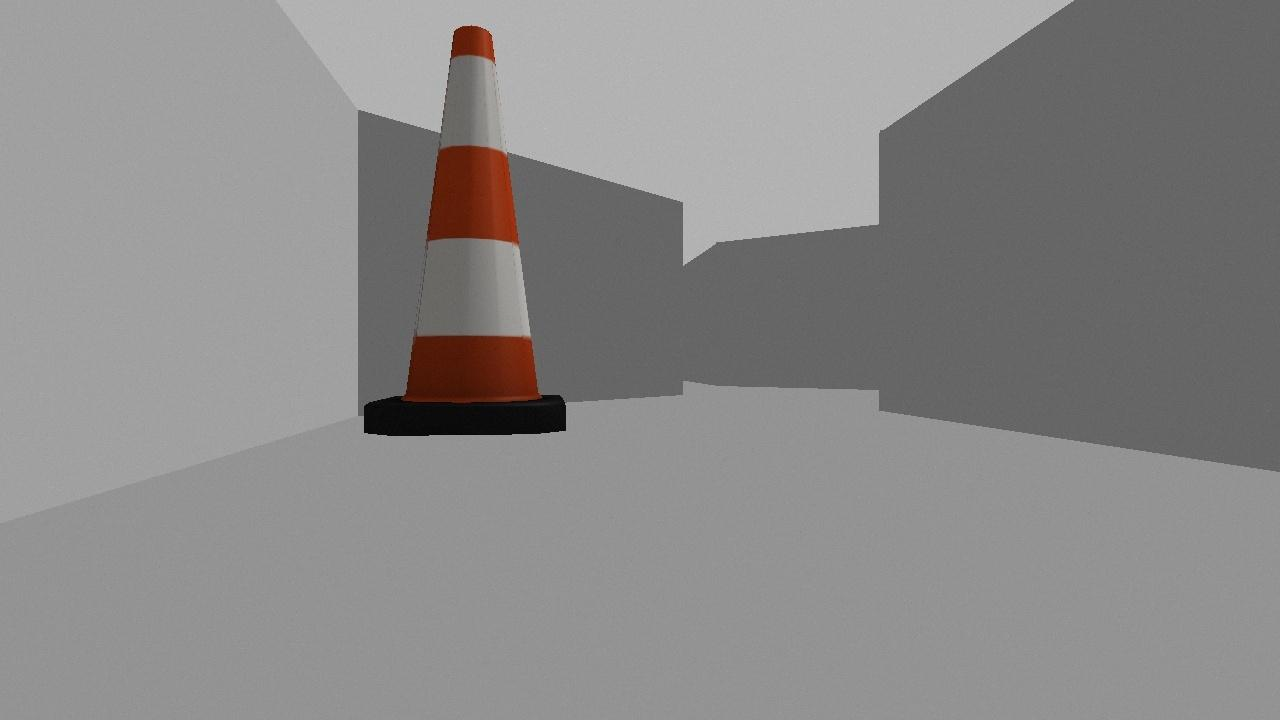cone_barrel: (360, 23, 566, 434)
